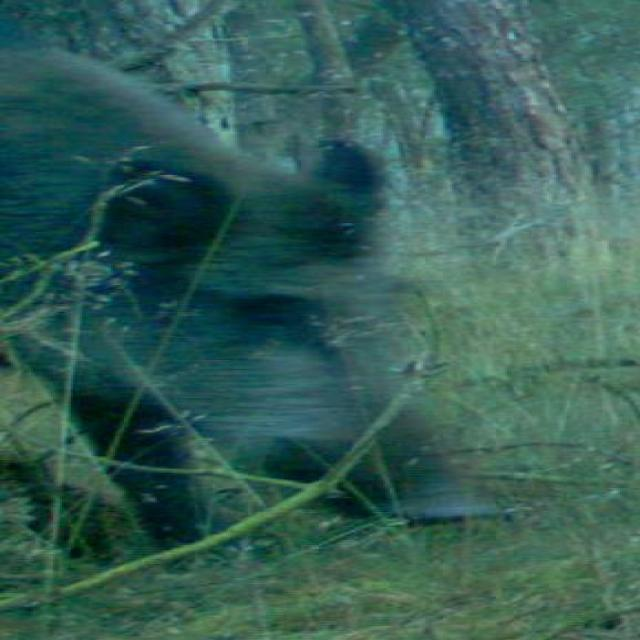pig: (0, 0, 617, 568)
